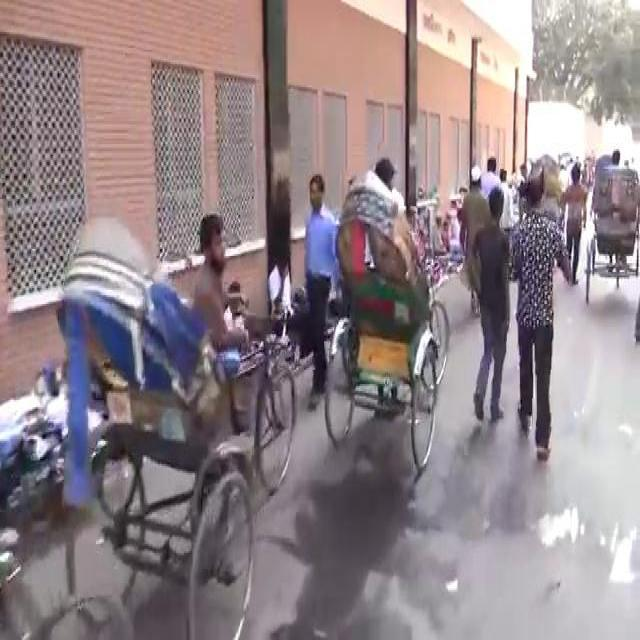vehicle: (58, 207, 297, 639), (318, 168, 449, 474), (583, 140, 637, 332), (528, 152, 563, 227)
